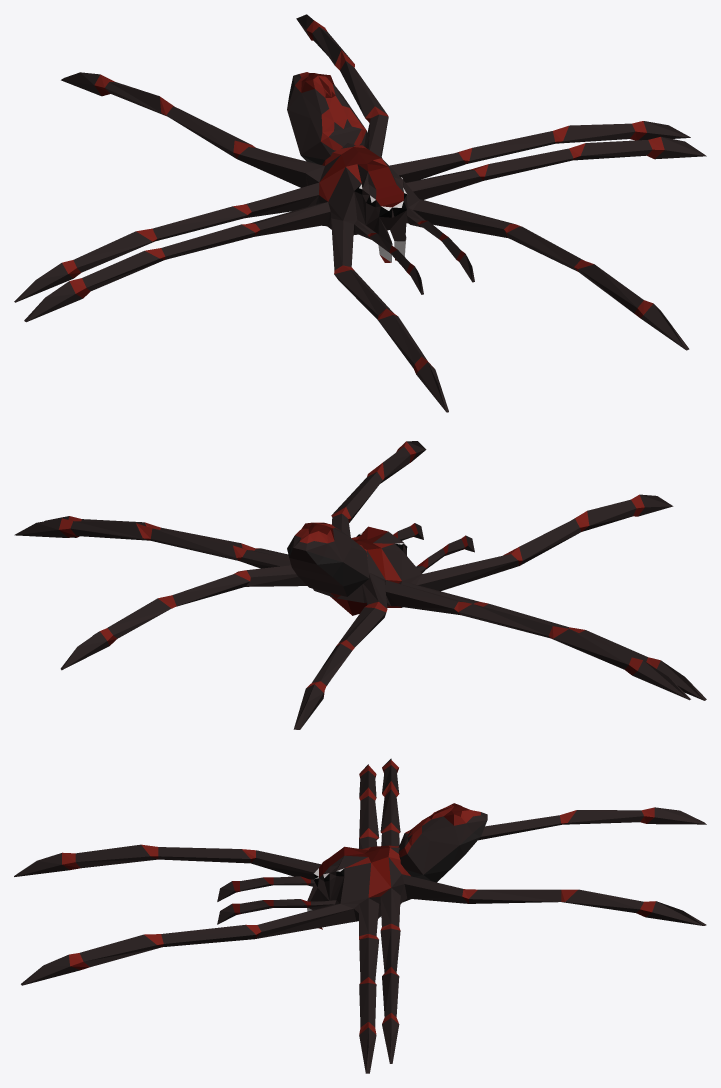
File: venenatis.gltf
3 views of the same model, one above another, from view 1: azimuth 30°, elevation 25°; view 2: azimuth 150°, elevation 25°; view 3: azimuth 270°, elevation 25° (orthographic). The views are drawn at different scales.
Size of the model in its own units: 534 by 100 by 518.
Materials: 1 (1 with a texture image).
